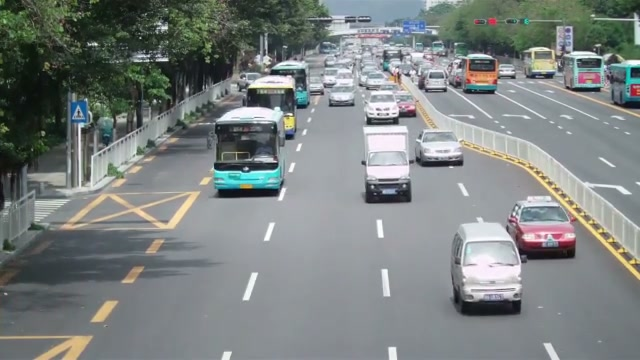bus: (212, 106, 287, 196), (245, 75, 297, 139), (272, 61, 310, 108), (563, 51, 605, 92), (608, 60, 640, 107), (464, 54, 499, 93)
car: (449, 221, 525, 315), (505, 198, 577, 258), (361, 124, 413, 203), (413, 128, 464, 167), (363, 91, 400, 125), (393, 91, 417, 117), (328, 84, 356, 106), (423, 70, 448, 93), (237, 72, 262, 92), (499, 64, 516, 79)
truck: (361, 125, 413, 203), (562, 51, 605, 92), (608, 60, 640, 107), (522, 47, 557, 79)
